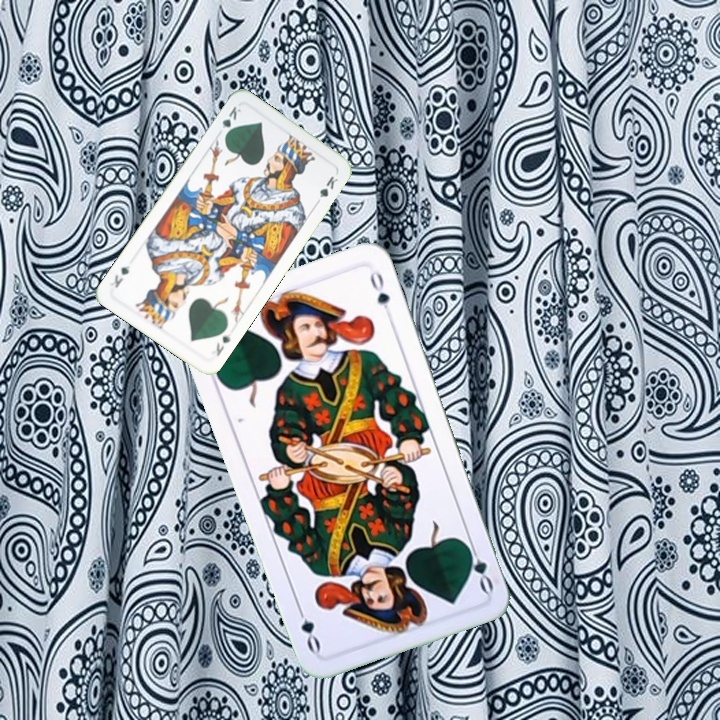GK: (214, 102, 244, 140), (212, 329, 234, 359)
GO: (460, 537, 496, 595)
